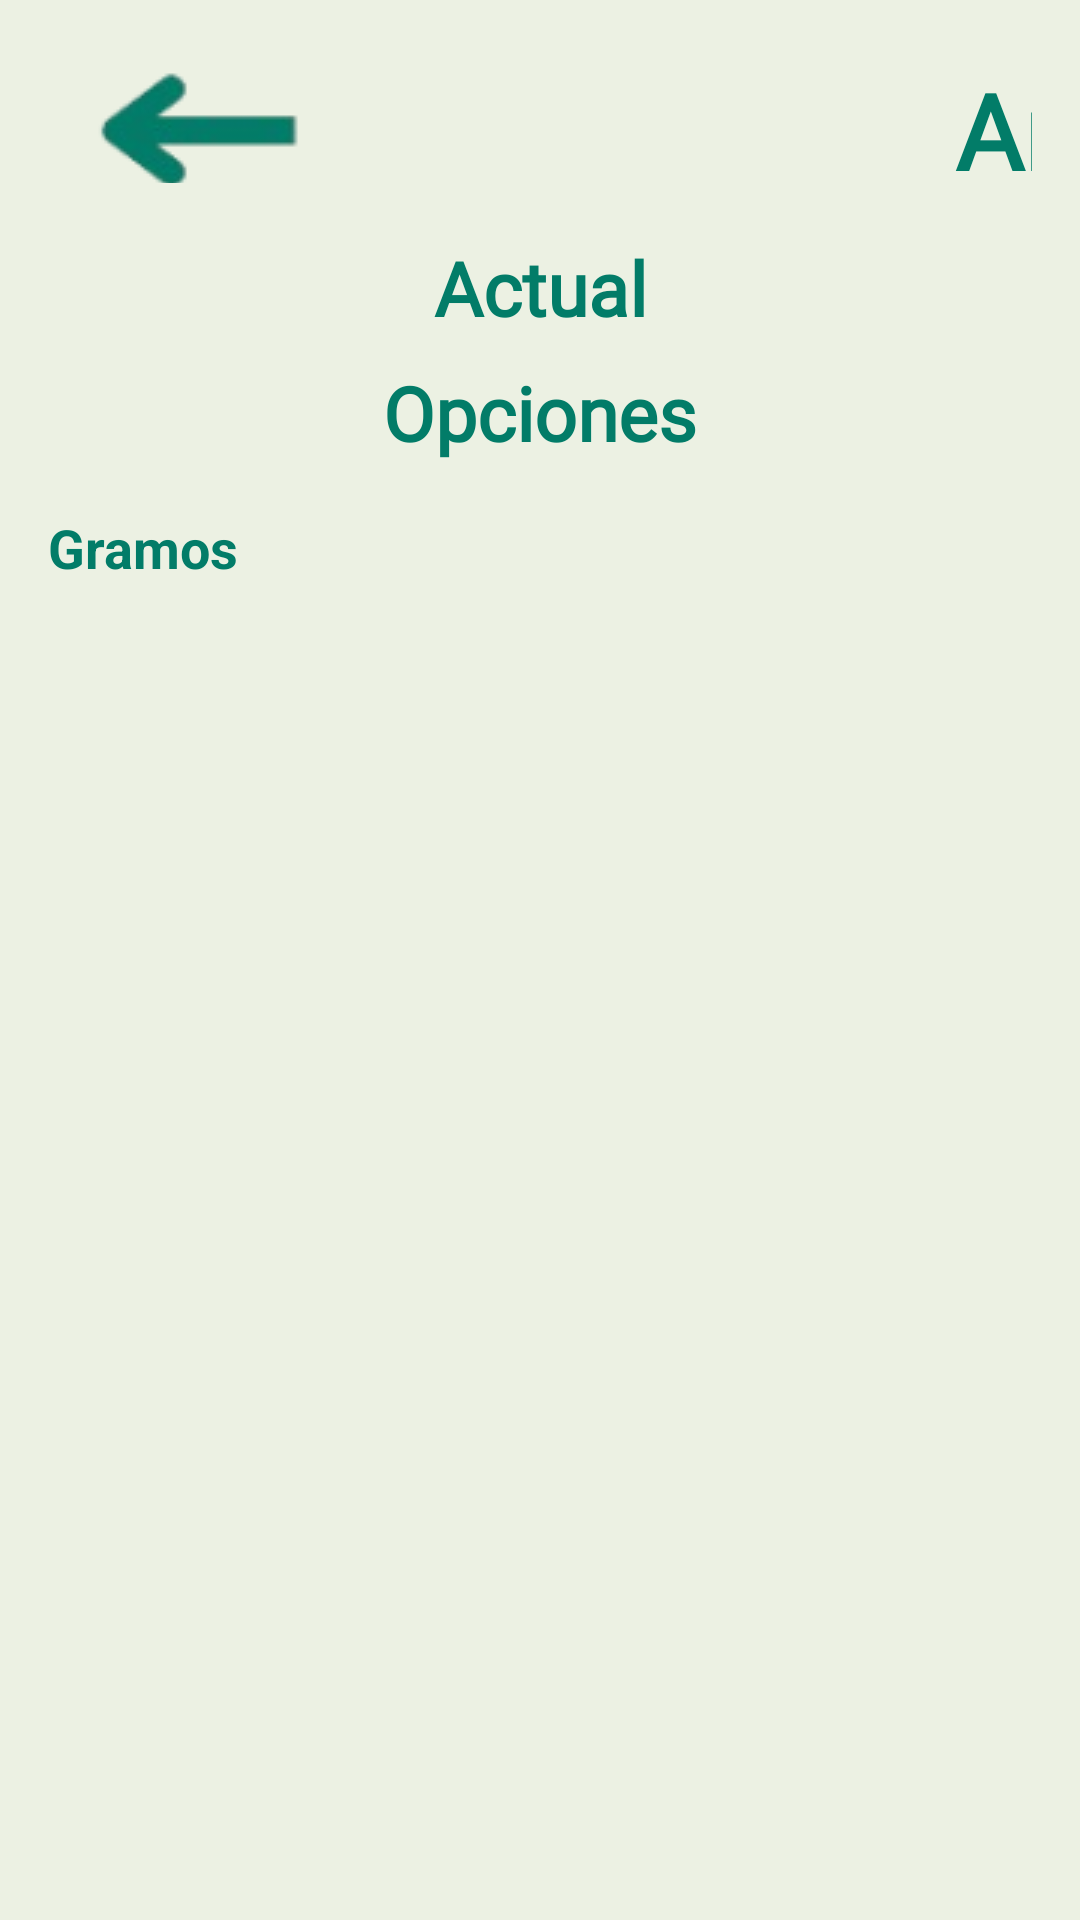

Where icons sit on this 1080x1920 app screen, as (x1, y1, x2, y2):
gobacksinfondo: (101, 73, 298, 183)
